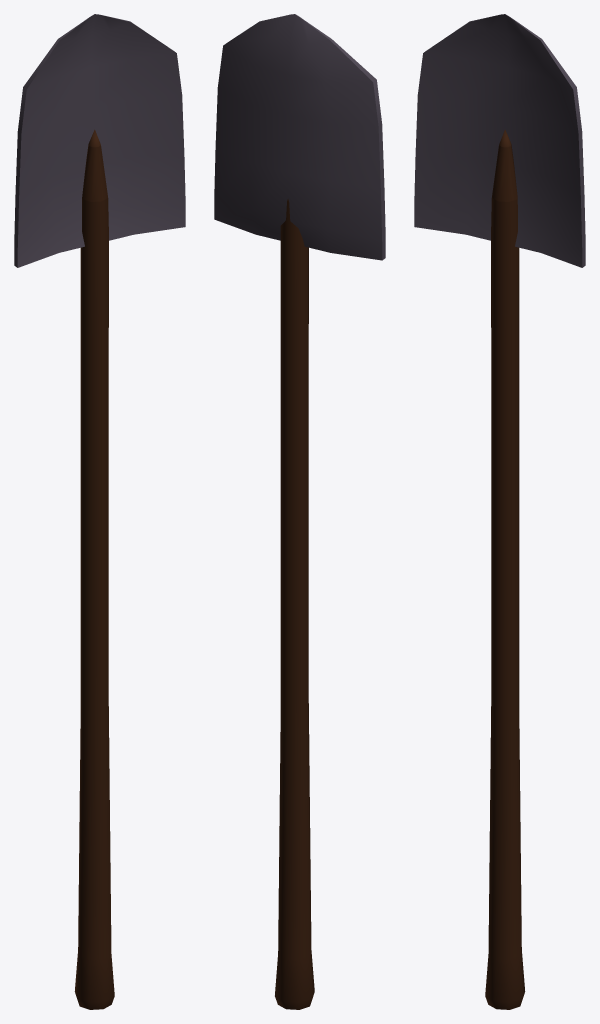
Rendered from VillagerShovel.fbx.
3 views of the same model, side by side, from view 1: azimuth 30°, elevation 25°; view 2: azimuth 150°, elevation 25°; view 3: azimuth 330°, elevation 25° (orthographic).
Visible parts, largest first — view 1: VillagerShovel; view 2: VillagerShovel; view 3: VillagerShovel.
Part boxes in pixels (bbox=[...]): VillagerShovel: bbox=[14, 14, 185, 1009]; VillagerShovel: bbox=[214, 14, 385, 1009]; VillagerShovel: bbox=[414, 14, 585, 1009].
Size of the model in its own units: 28.82 by 162 by 6.16.
